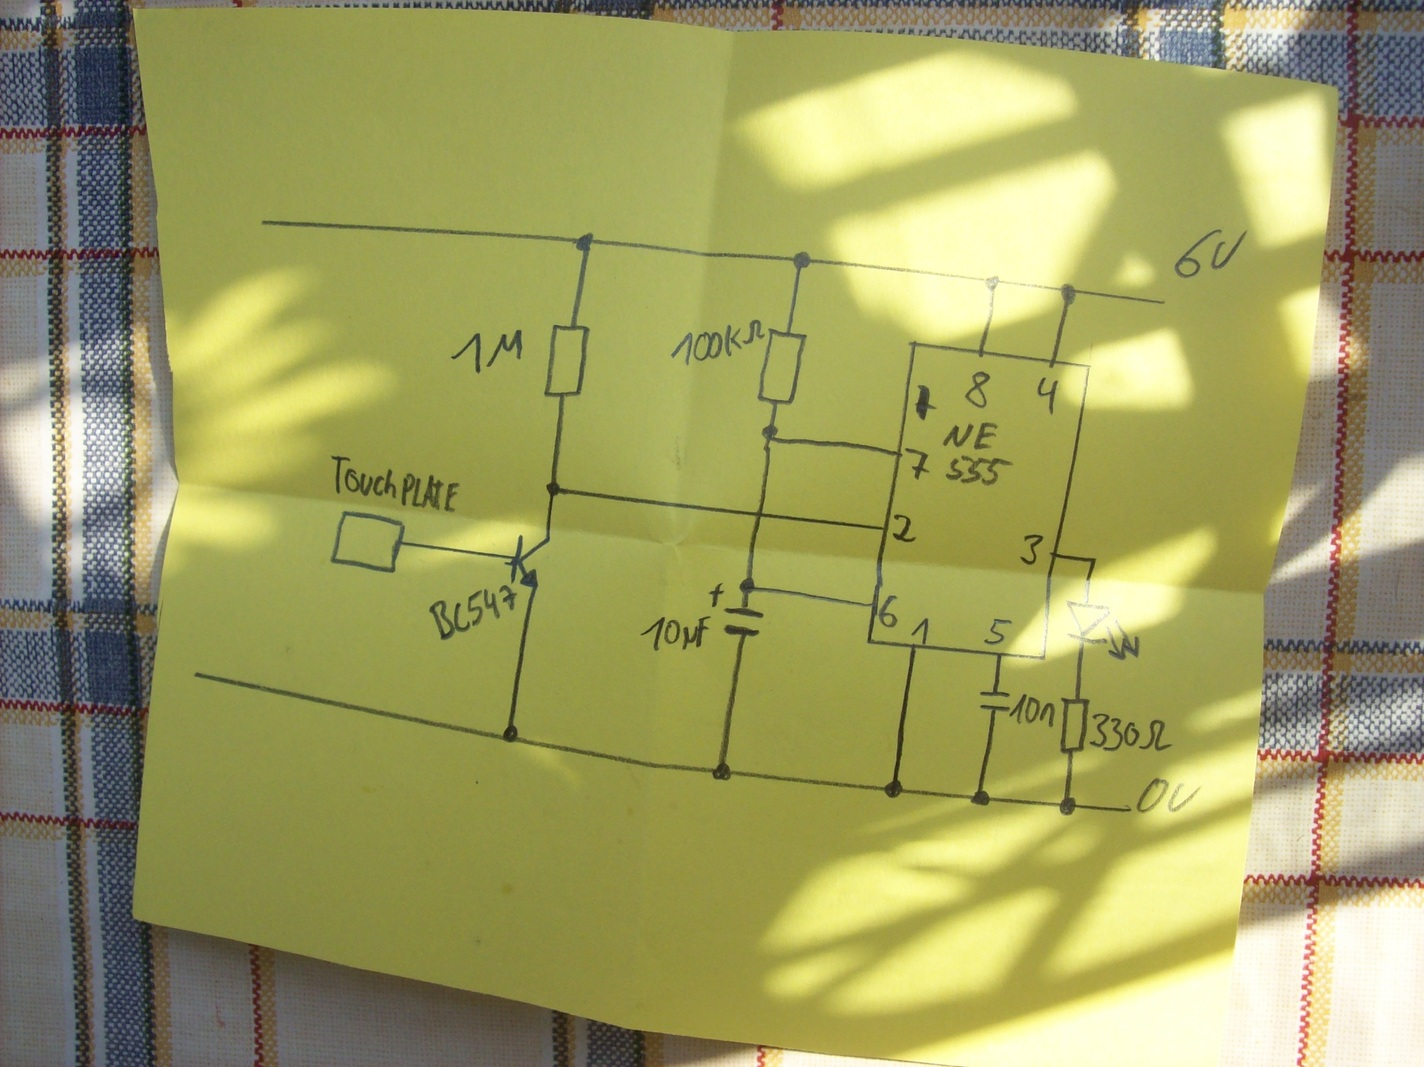capacitor.polarized: (707, 581, 766, 639)
capacitor.unpolarized: (977, 687, 1014, 716)
crossover: (750, 505, 767, 522)
diode.light_emitting: (1063, 599, 1142, 662)
integrated_cricuit.ne555: (863, 338, 1095, 662)
junction: (882, 778, 905, 800), (1058, 281, 1079, 306), (710, 761, 733, 783), (500, 724, 522, 746), (574, 231, 596, 253), (760, 423, 779, 448), (791, 250, 812, 271), (1058, 796, 1077, 818), (969, 789, 992, 808), (738, 576, 758, 596), (545, 479, 564, 498), (983, 273, 1000, 293), (1087, 555, 1099, 566)
resistor: (755, 327, 808, 406), (542, 322, 592, 399), (1059, 694, 1091, 757)
terminal: (328, 509, 407, 575), (189, 668, 208, 683), (255, 215, 274, 229), (1155, 295, 1170, 310), (1120, 802, 1134, 817)
text: (329, 454, 462, 513), (428, 584, 519, 641), (942, 420, 1015, 488), (668, 318, 766, 367), (1173, 228, 1249, 280), (1088, 712, 1174, 753), (450, 330, 525, 374), (637, 615, 713, 652), (1135, 776, 1202, 815), (1008, 693, 1057, 729), (962, 370, 992, 410), (1035, 375, 1060, 417), (903, 446, 932, 481), (1017, 532, 1045, 567), (981, 618, 1014, 646), (891, 513, 919, 544), (877, 593, 901, 629), (909, 616, 933, 644)
transistor: (504, 533, 555, 590)
